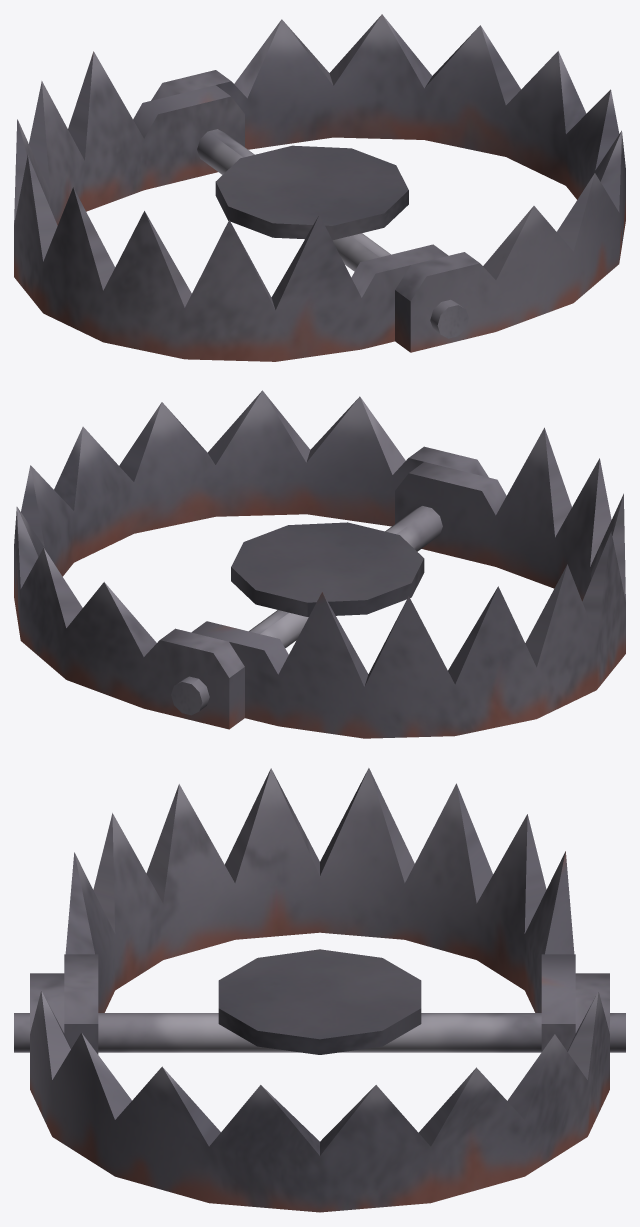
Rendered from BearTrap.FBX.
3 views of the same model, one above another, from view 1: azimuth 30°, elevation 25°; view 2: azimuth 150°, elevation 25°; view 3: azimuth 270°, elevation 25° (orthographic). The views are drawn at different scales.
Visible parts, largest first — view 1: Tube02, Object01; view 2: Tube02, Object01; view 3: Tube02, Object01.
Boxes of the visible parts, x1,y1,x2,y2 form: Tube02: [151, 14, 625, 352]; Object01: [14, 51, 448, 361]; Tube02: [14, 390, 488, 729]; Object01: [191, 427, 625, 738]; Tube02: [14, 949, 625, 1212]; Object01: [64, 768, 575, 1054].
Bounding box in the file's own units: 64.3 × 15.75 × 56.53.
